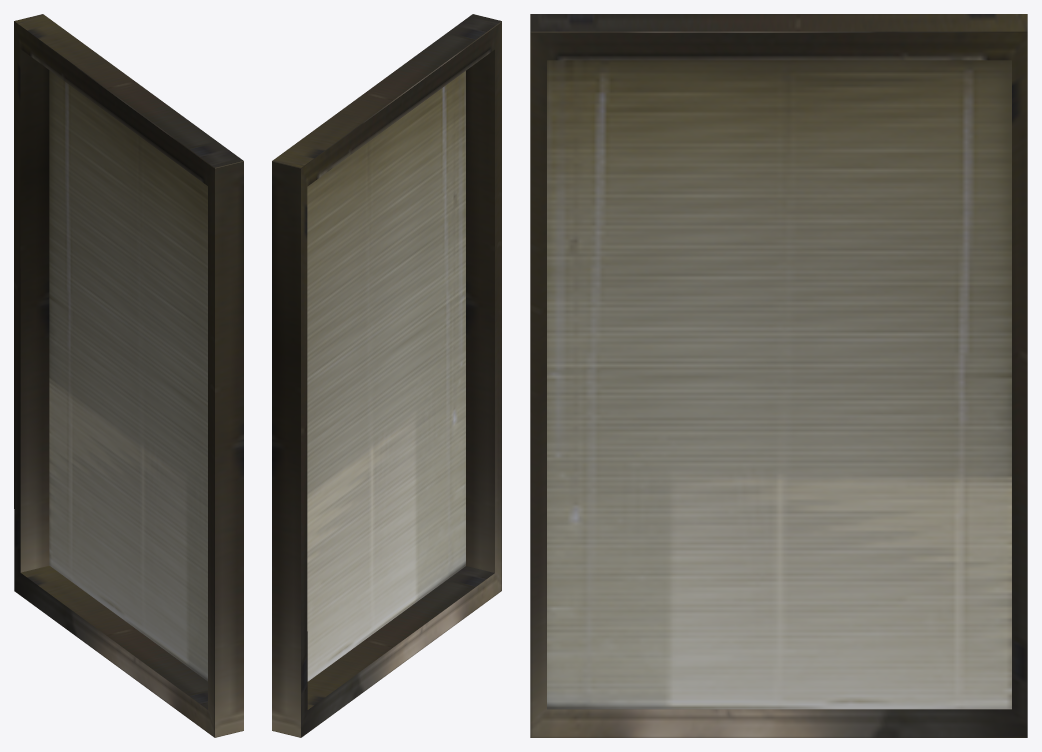
The model's file is Window_b.FBX.
3 renders of one model, left to right at view 1: azimuth 30°, elevation 25°; view 2: azimuth 150°, elevation 25°; view 3: azimuth 270°, elevation 25°, orthographic. The views are drawn at different scales.
Visible parts, largest first — view 1: pCube1; view 2: pCube1; view 3: pCube1.
Part boxes in pixels (box(x1,y1,x2,y2)): pCube1: box(14, 14, 243, 737); pCube1: box(272, 14, 501, 737); pCube1: box(530, 14, 1027, 737).
Bounding box in the file's own units: 10 × 188 × 120.
